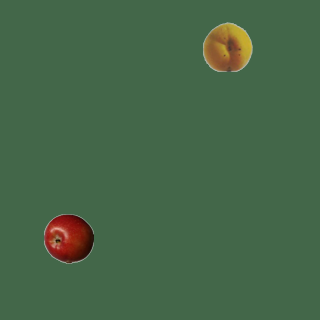Apple Braeburn: (43, 213, 93, 263)
Peach 2: (202, 21, 252, 71)
